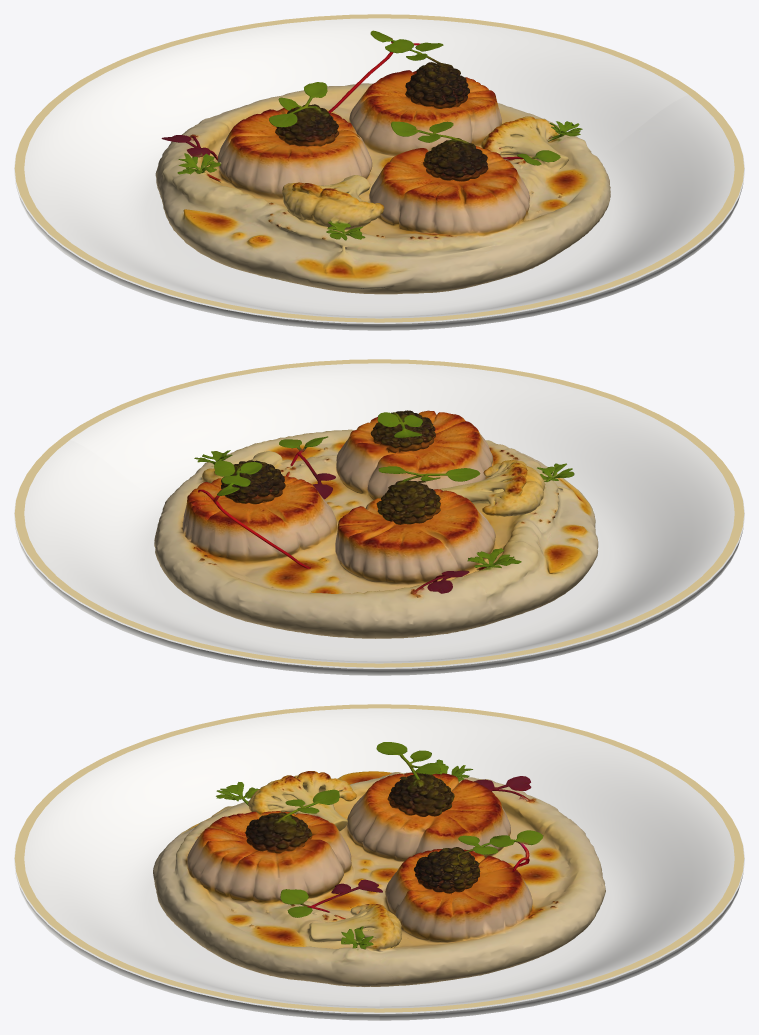
File: vieiras.glb
The picture shows the model from 3 angles, top to bottom: view 1: azimuth 30°, elevation 25°; view 2: azimuth 150°, elevation 25°; view 3: azimuth 270°, elevation 25°; orthographic projection.
Visible parts, largest first — view 1: dish, tripo_node_43388e2f-d014-44bf-a4a0-0c8fb432ef28; view 2: dish, tripo_node_43388e2f-d014-44bf-a4a0-0c8fb432ef28; view 3: dish, tripo_node_43388e2f-d014-44bf-a4a0-0c8fb432ef28.
Boxes of the visible parts, <box> form: dish: <box>14,14,744,330</box>; tripo_node_43388e2f-d014-44bf-a4a0-0c8fb432ef28: <box>155,30,610,294</box>; dish: <box>14,359,744,675</box>; tripo_node_43388e2f-d014-44bf-a4a0-0c8fb432ef28: <box>154,410,598,638</box>; dish: <box>14,704,744,1020</box>; tripo_node_43388e2f-d014-44bf-a4a0-0c8fb432ef28: <box>153,742,605,986</box>.
Bounding box in the file's own units: 0.27 × 0.055 × 0.27.
Materials: 4 (1 with a texture image).
